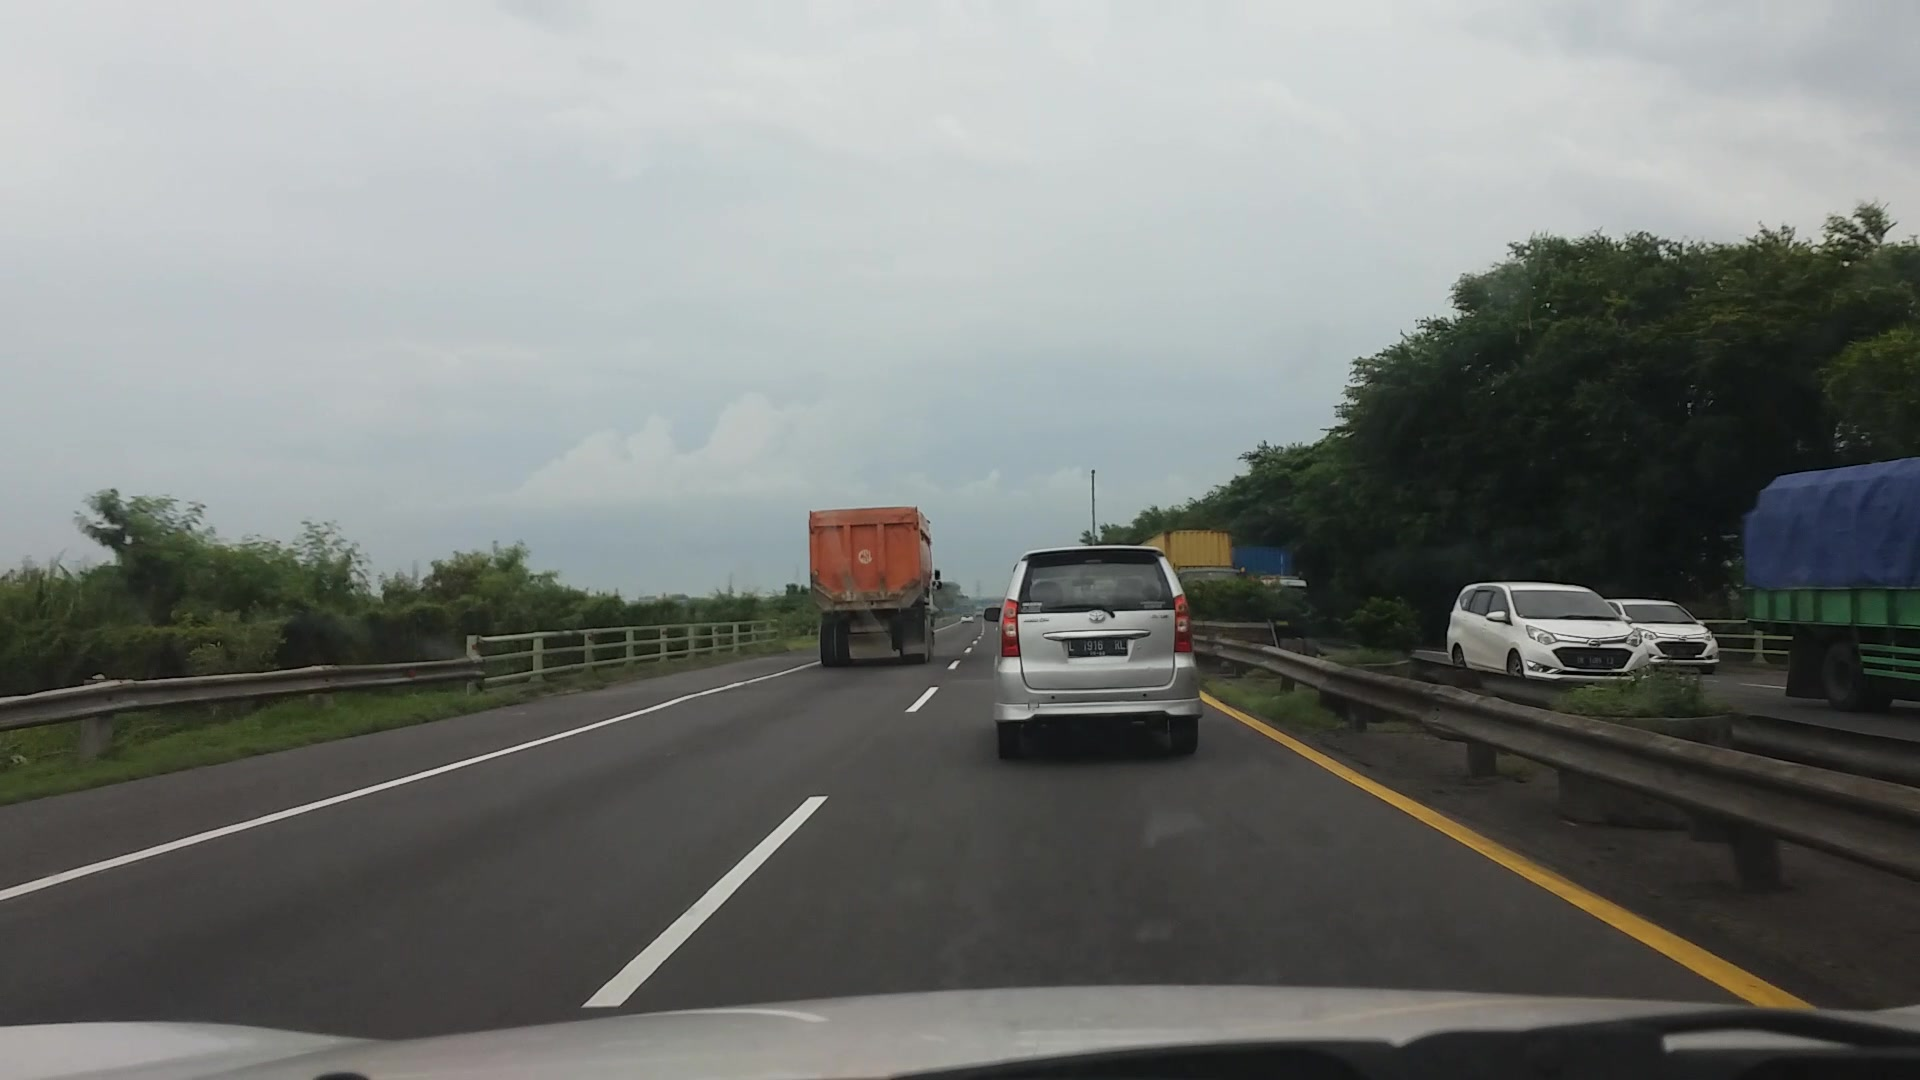plate_positive: (1067, 637, 1127, 658)
